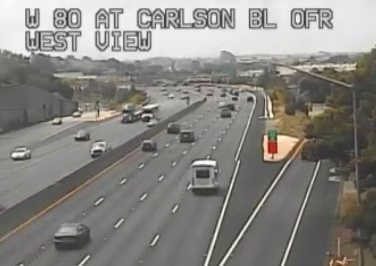bus: (190, 160, 217, 190)
car: (54, 223, 88, 246), (180, 130, 194, 142), (141, 141, 155, 152)
